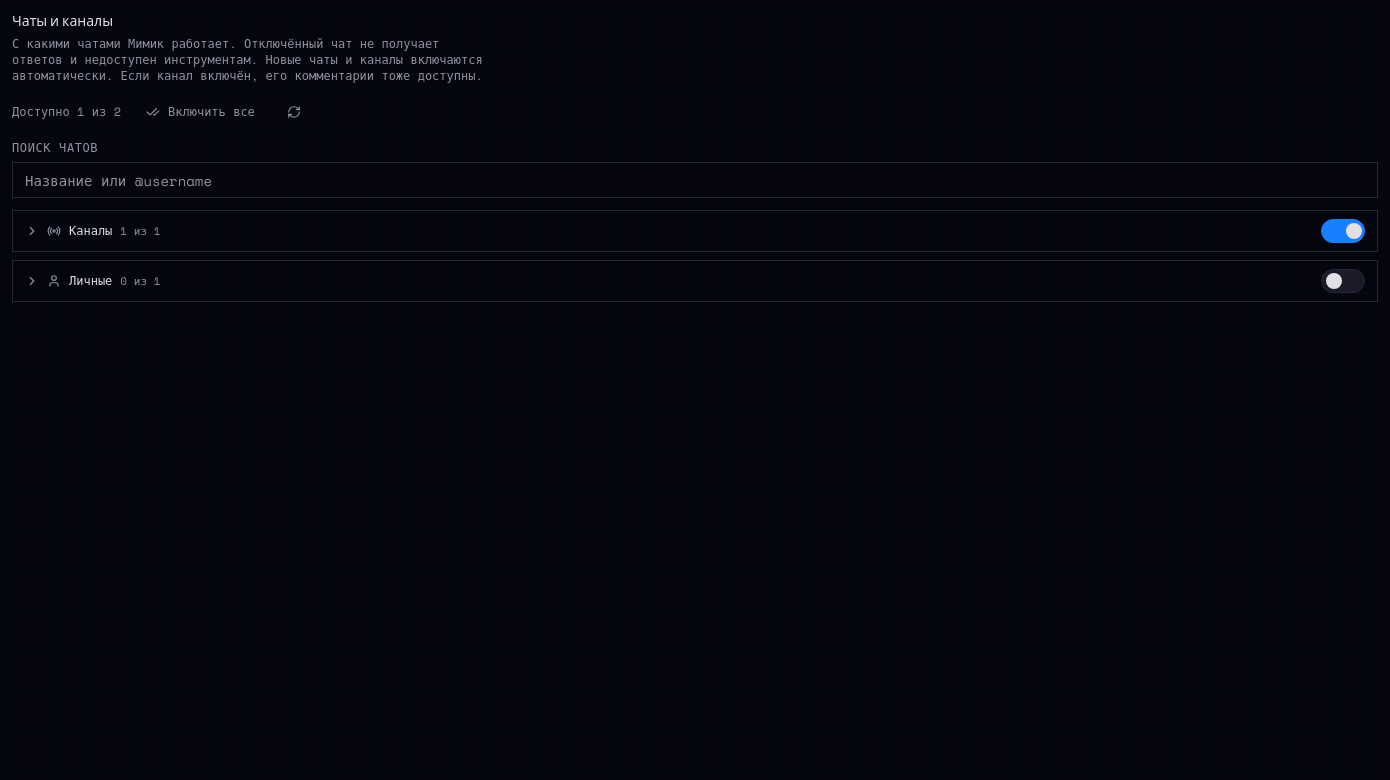
Test: ChatsSettings › агент остановился после загрузки списка: прежний список убирается
The width and height of the screenshot is (1390, 780).
Expected: the text "Доступно 1 из 2" is shown, [12,104,121,120]
Click the button named "Обновить список". click: (294,112)
box: [280,98,308,126]
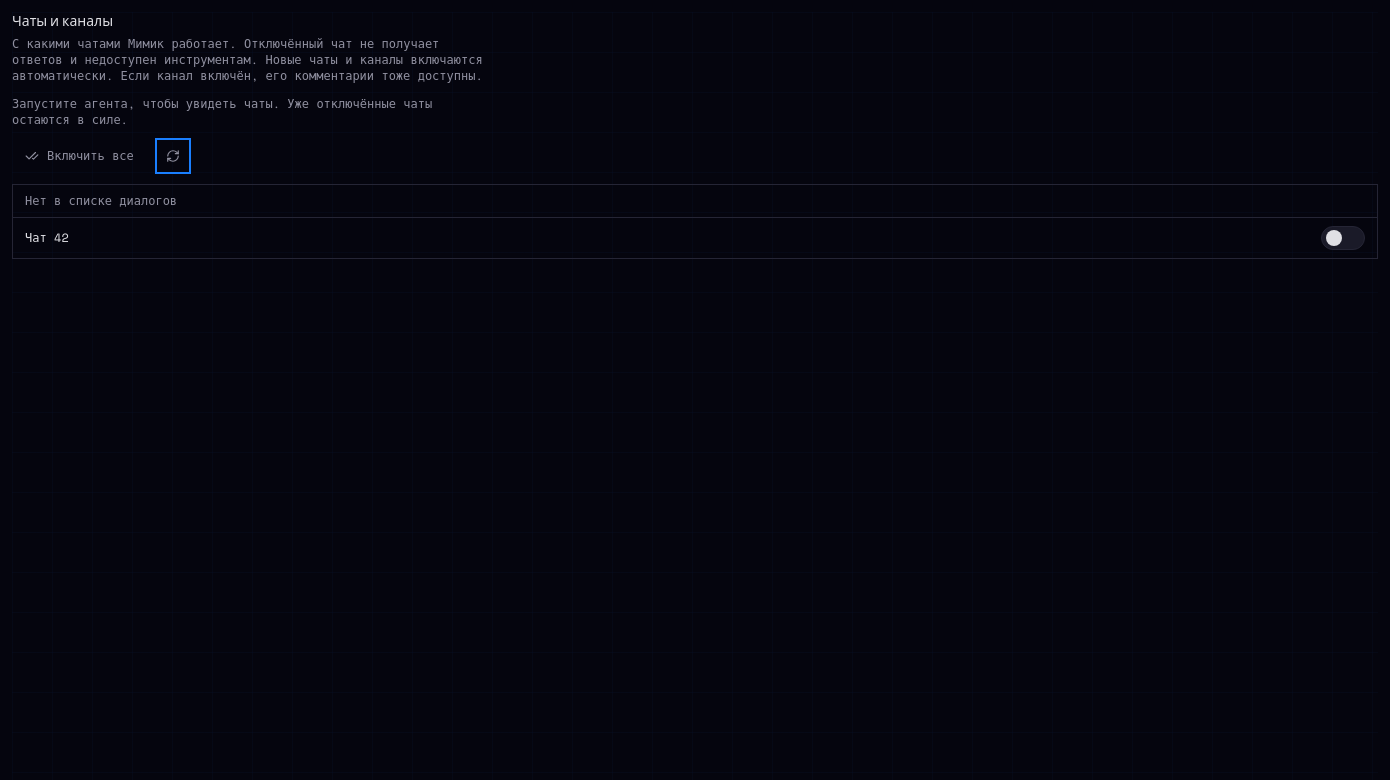
Expected: the text with test id "chats-not-running" is shown, [12,96,489,128]
Expected: the text "Доступно" is gone
